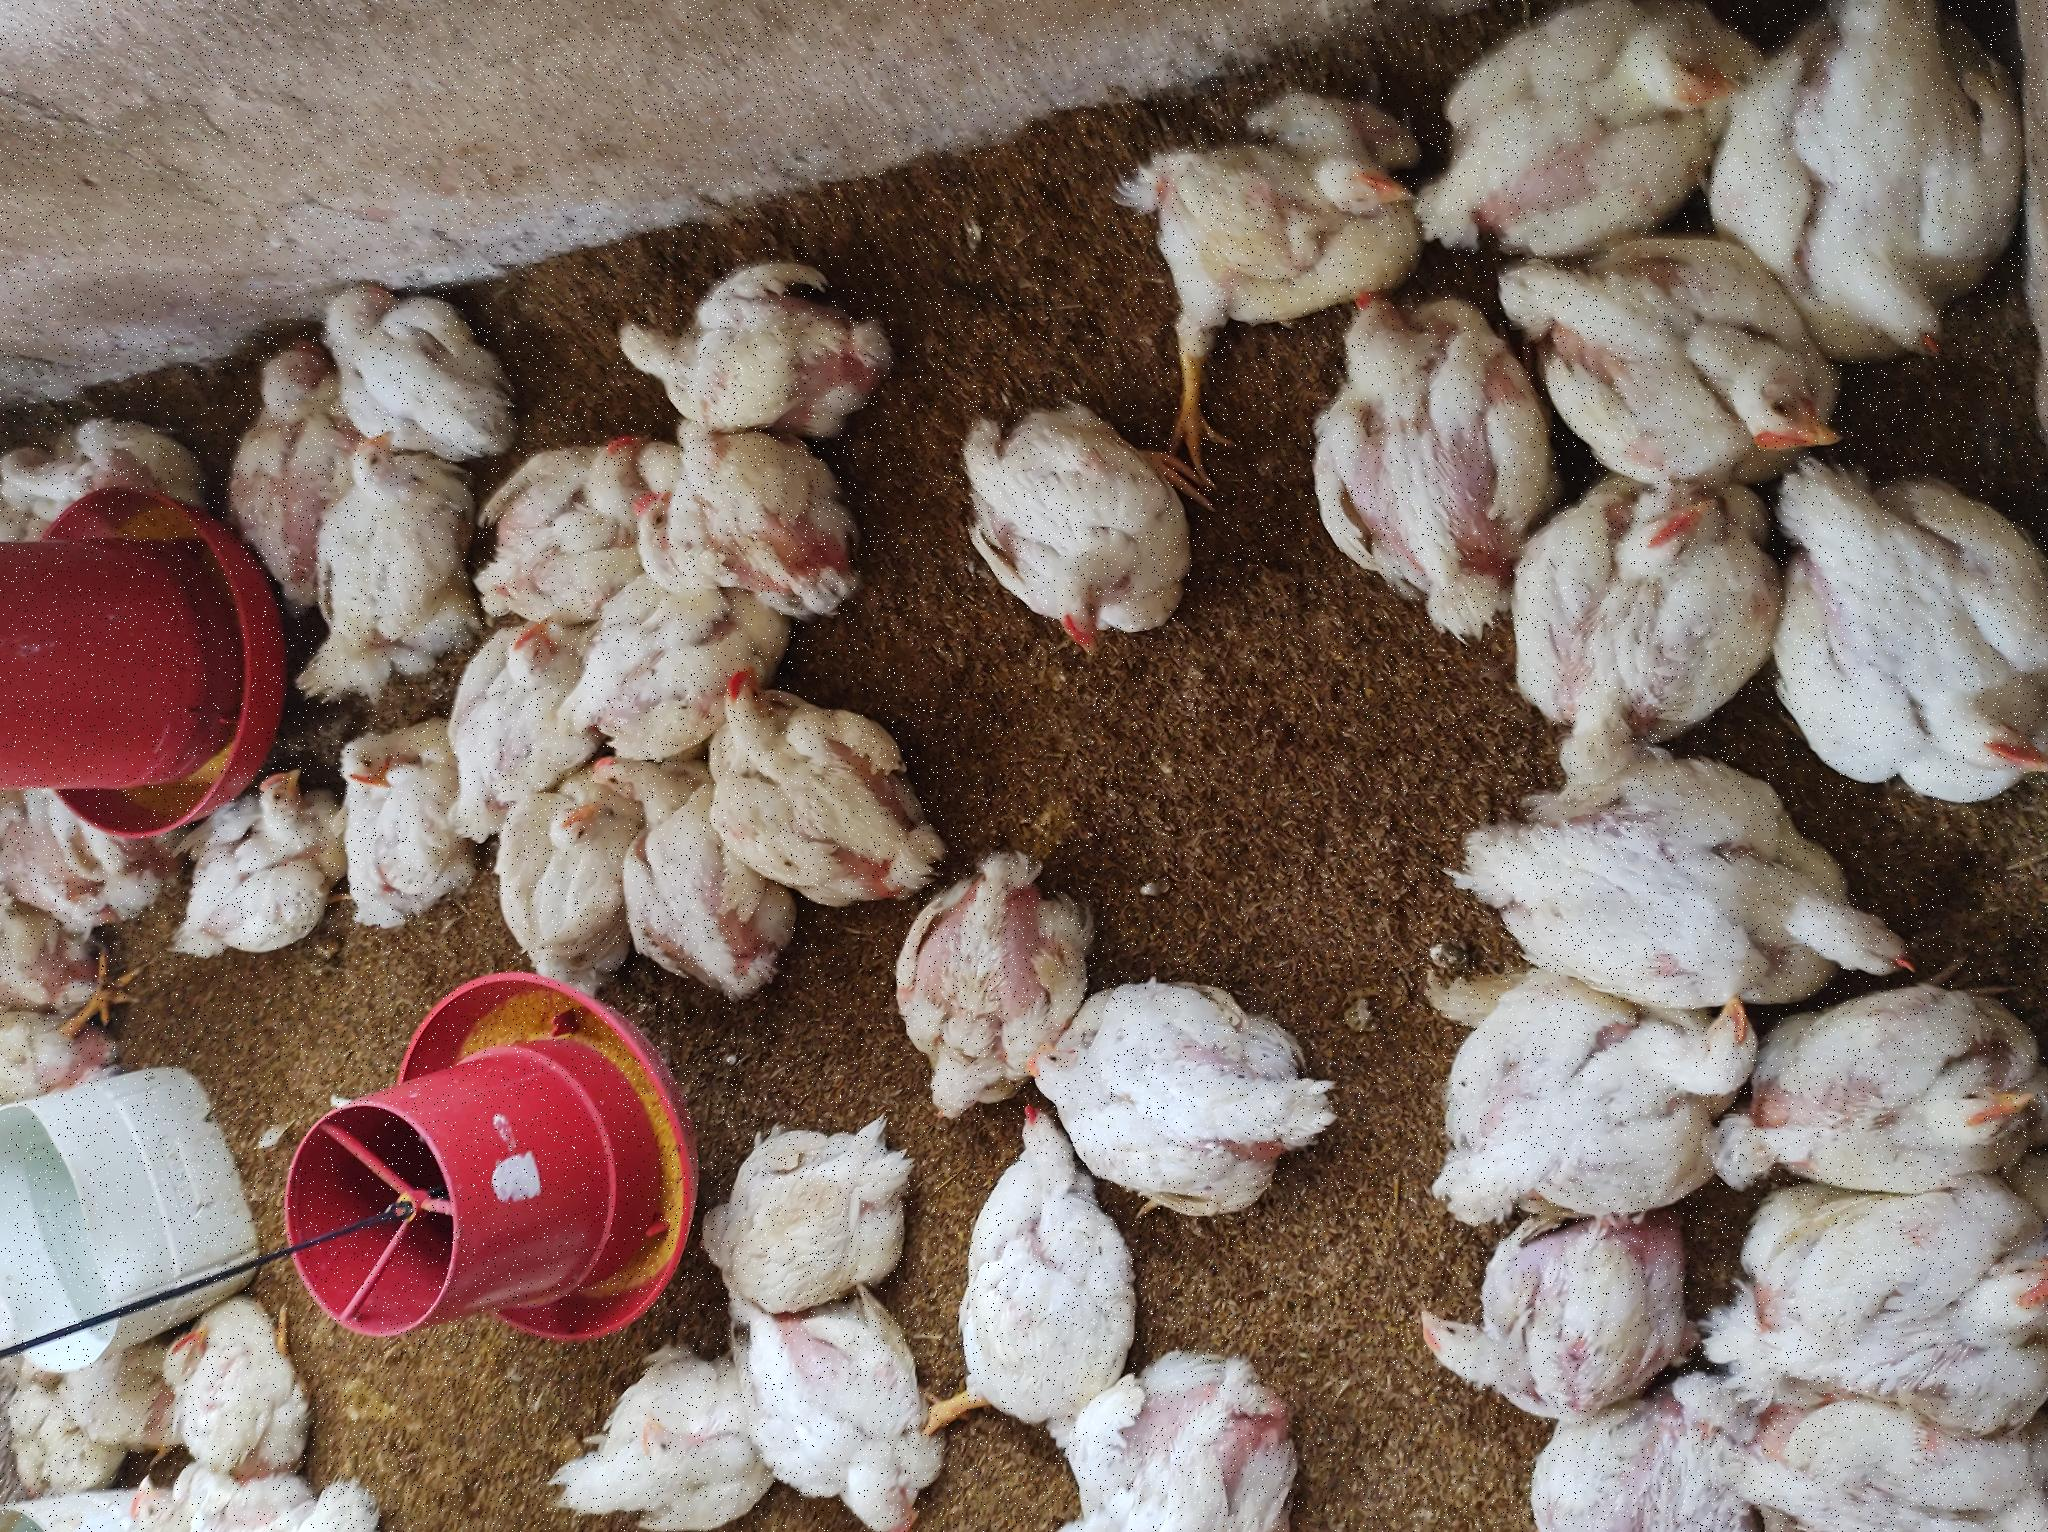Pollos: (906, 1292, 1239, 1532), (315, 1030, 574, 1337), (869, 946, 1139, 1229), (1224, 1125, 1450, 1423), (113, 941, 413, 1138), (410, 887, 706, 1075), (627, 711, 864, 938), (2, 1036, 188, 1305), (2, 732, 217, 962), (907, 637, 1108, 845), (565, 595, 790, 780), (1112, 616, 1266, 885), (236, 698, 415, 922), (1086, 312, 1268, 529), (2, 547, 190, 740), (853, 309, 1097, 454), (573, 179, 783, 338), (280, 1427, 586, 1532), (71, 159, 225, 333), (1269, 1432, 1532, 1532), (933, 476, 1092, 637), (114, 1400, 306, 1532), (732, 441, 911, 574), (964, 238, 1199, 336), (632, 335, 808, 462), (428, 2, 536, 151), (602, 509, 750, 613), (529, 2, 634, 146), (2, 122, 71, 320), (915, 624, 1030, 687)
